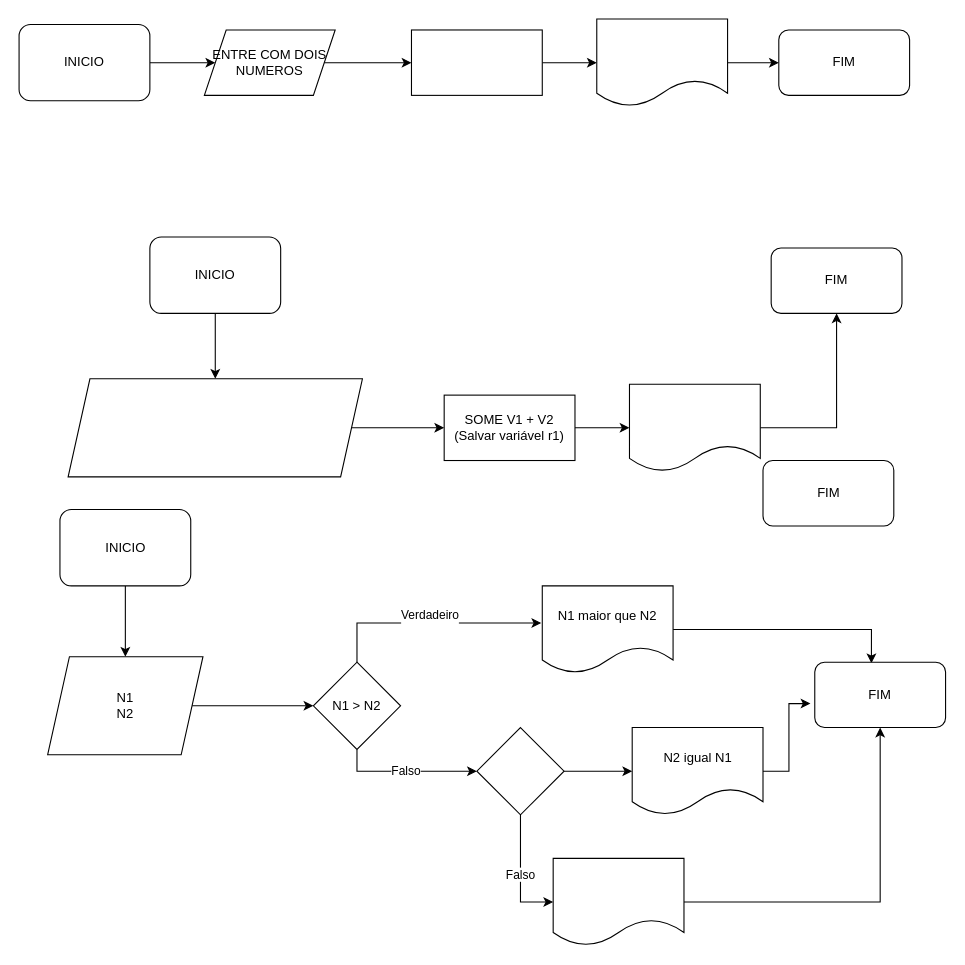
The diagram is 965 pixels wide and 965 high, and some of its shapes have lost their labels. Here are the shapes that lost their labels. From the top down, the centre of each, then its label:
At (476,62): "CALCULE OS NUMERO".
At (662,62): "MOSTRE OS NÚMEROS".
At (214,427): "Entre com valor 1 (salvar variável v1) Entre com valor 2 (salvar variável v2)".
At (694,427): "Mostre variável r1".
At (520,770): "N1 = N2".
At (618,901): "N2 maior que N1".
